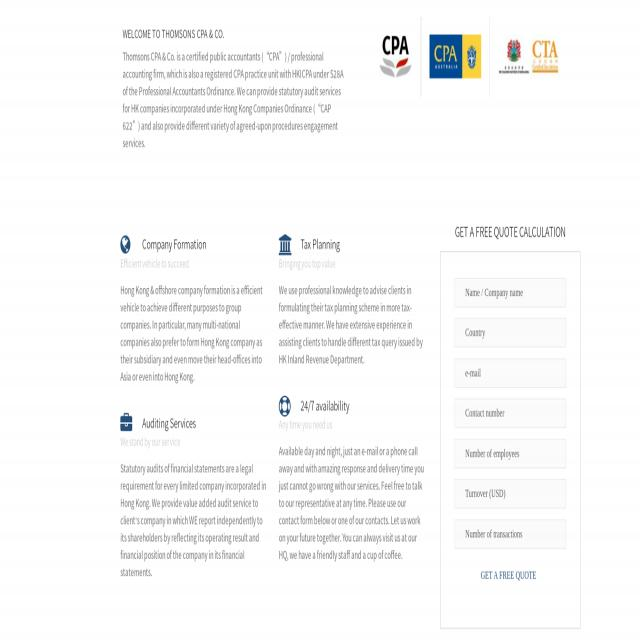button: (498, 34, 560, 78), (429, 34, 481, 78), (379, 34, 413, 78)
field: (454, 358, 566, 388), (454, 398, 566, 428), (454, 438, 566, 468), (454, 519, 566, 549), (454, 278, 566, 307), (454, 318, 566, 347), (454, 479, 566, 508), (474, 559, 543, 592)
